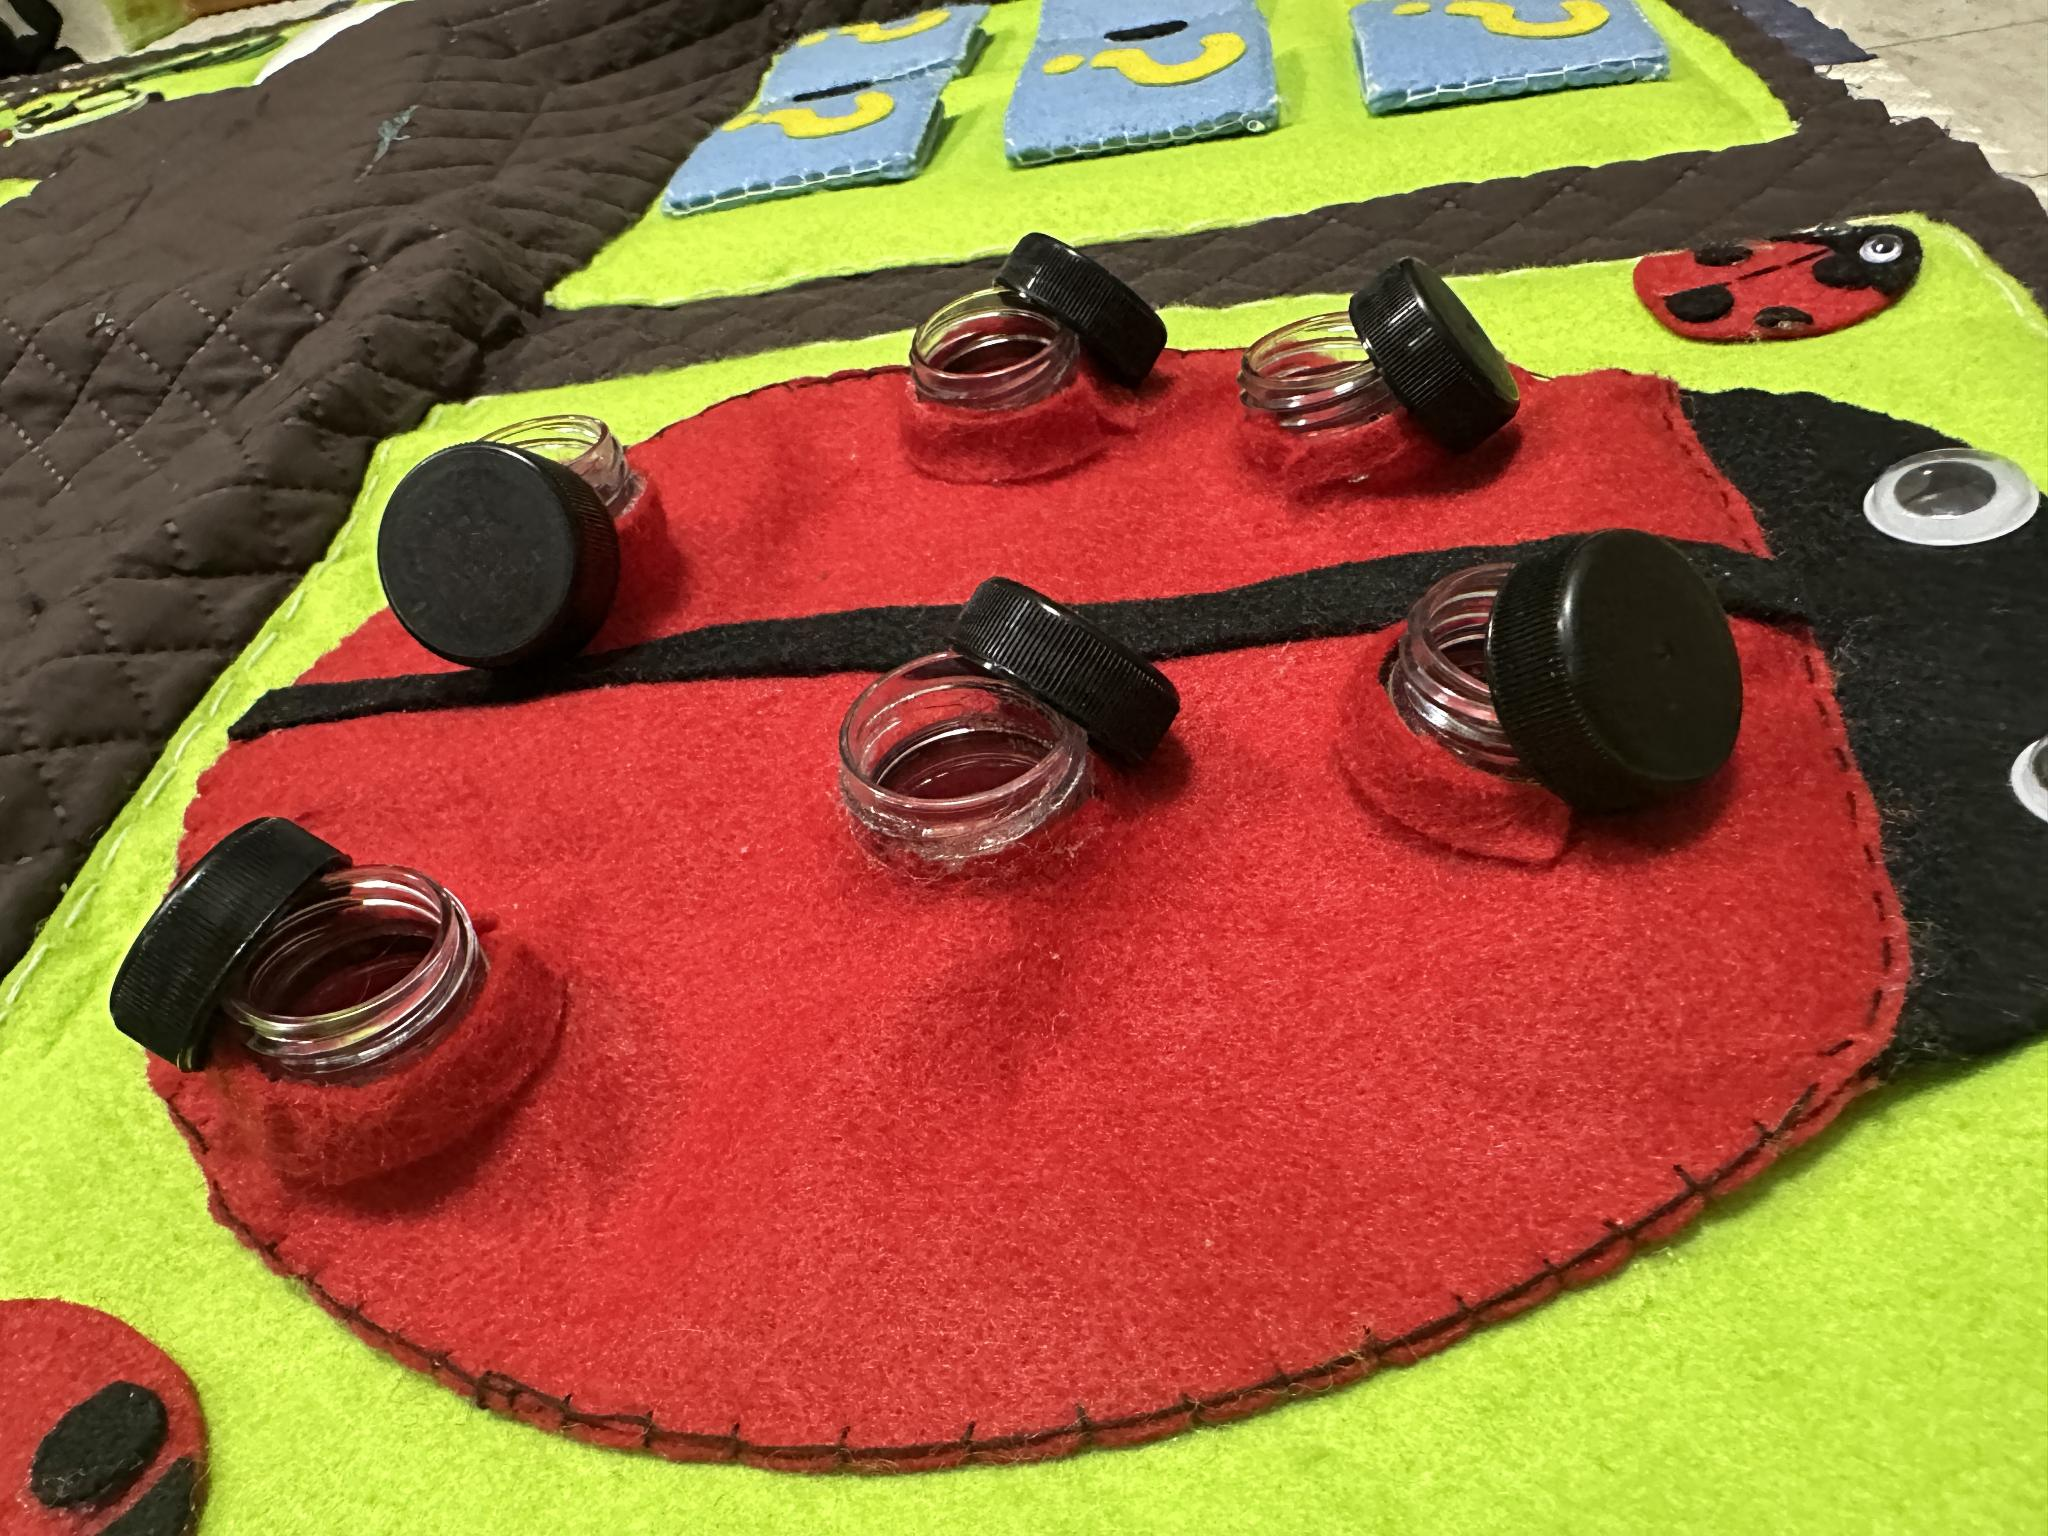cap_ng: (105, 800, 558, 1173), (1330, 524, 1759, 879), (813, 568, 1198, 878), (374, 392, 672, 691), (866, 211, 1188, 487), (1227, 258, 1534, 508)
